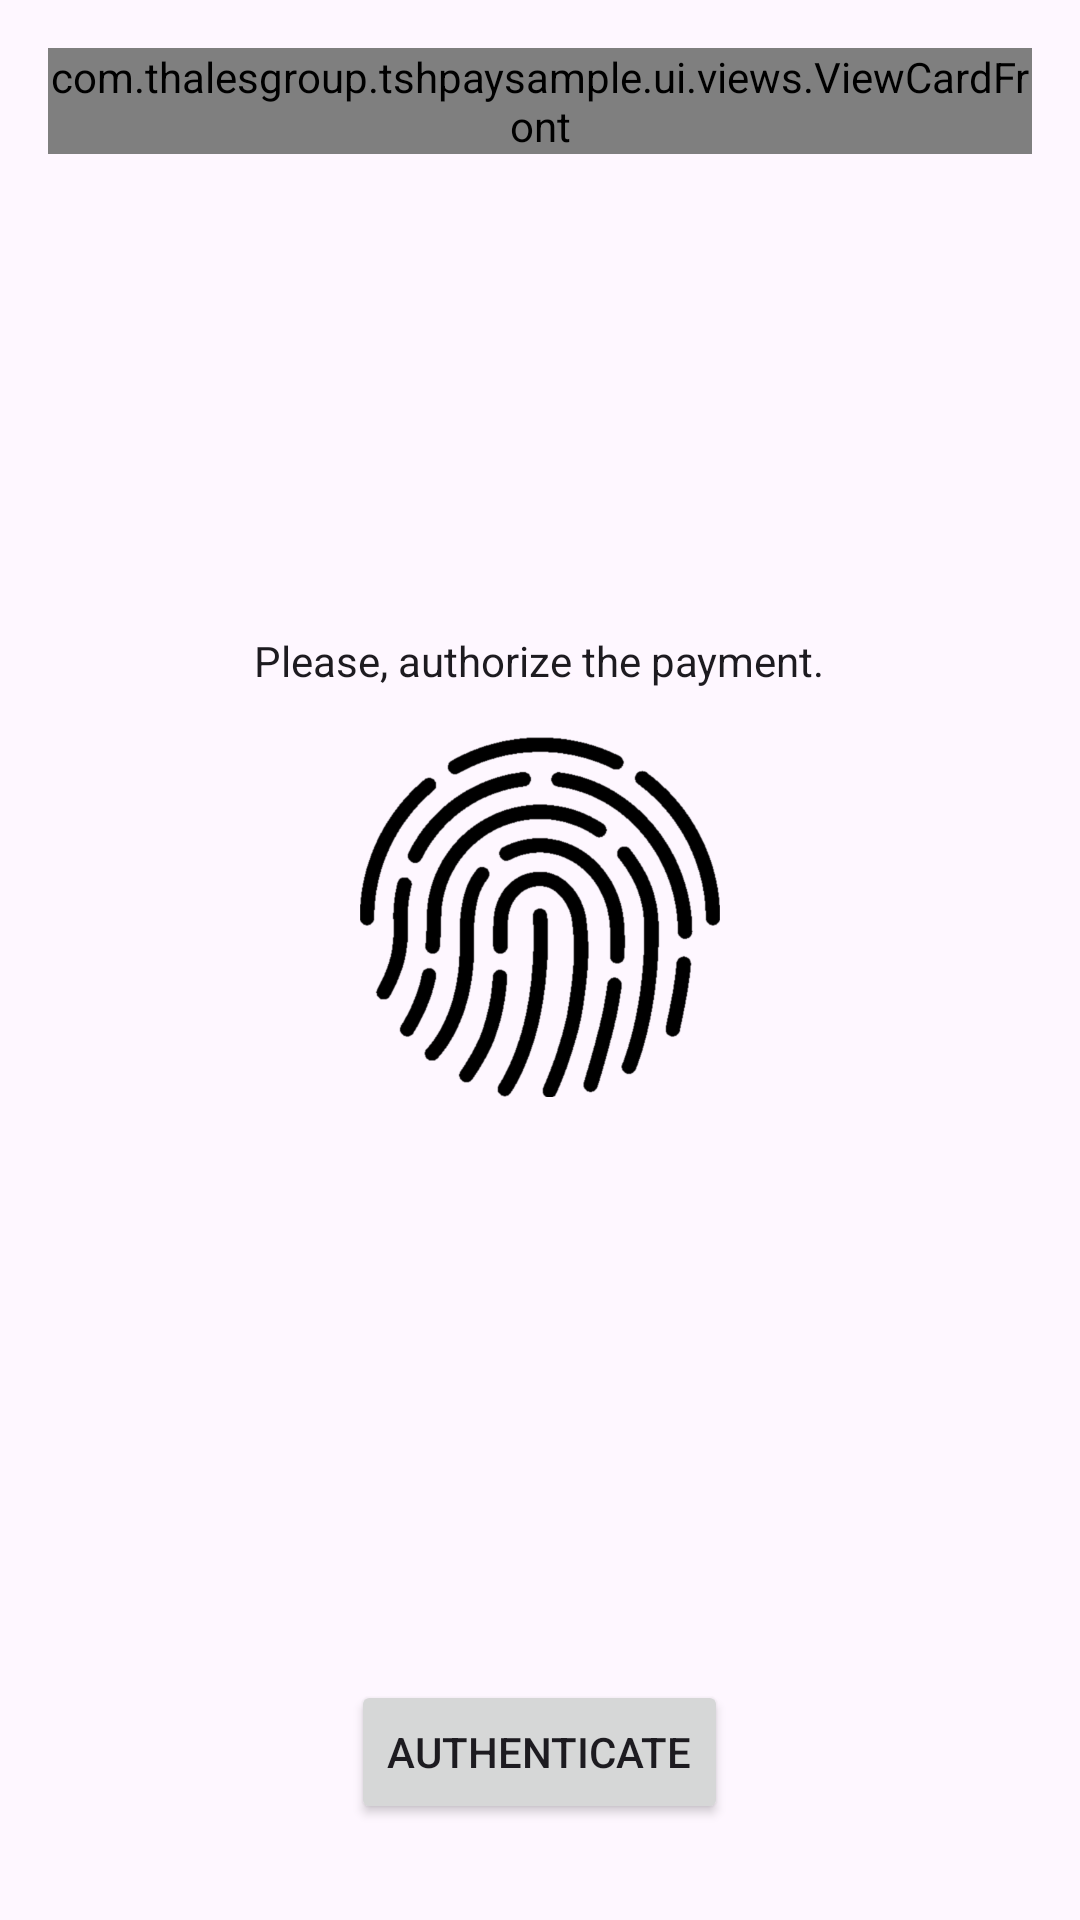

Point at icon controls on the screen. Image size 1080 x 1920, points as (x,y).
fingerprint: (540,917)
